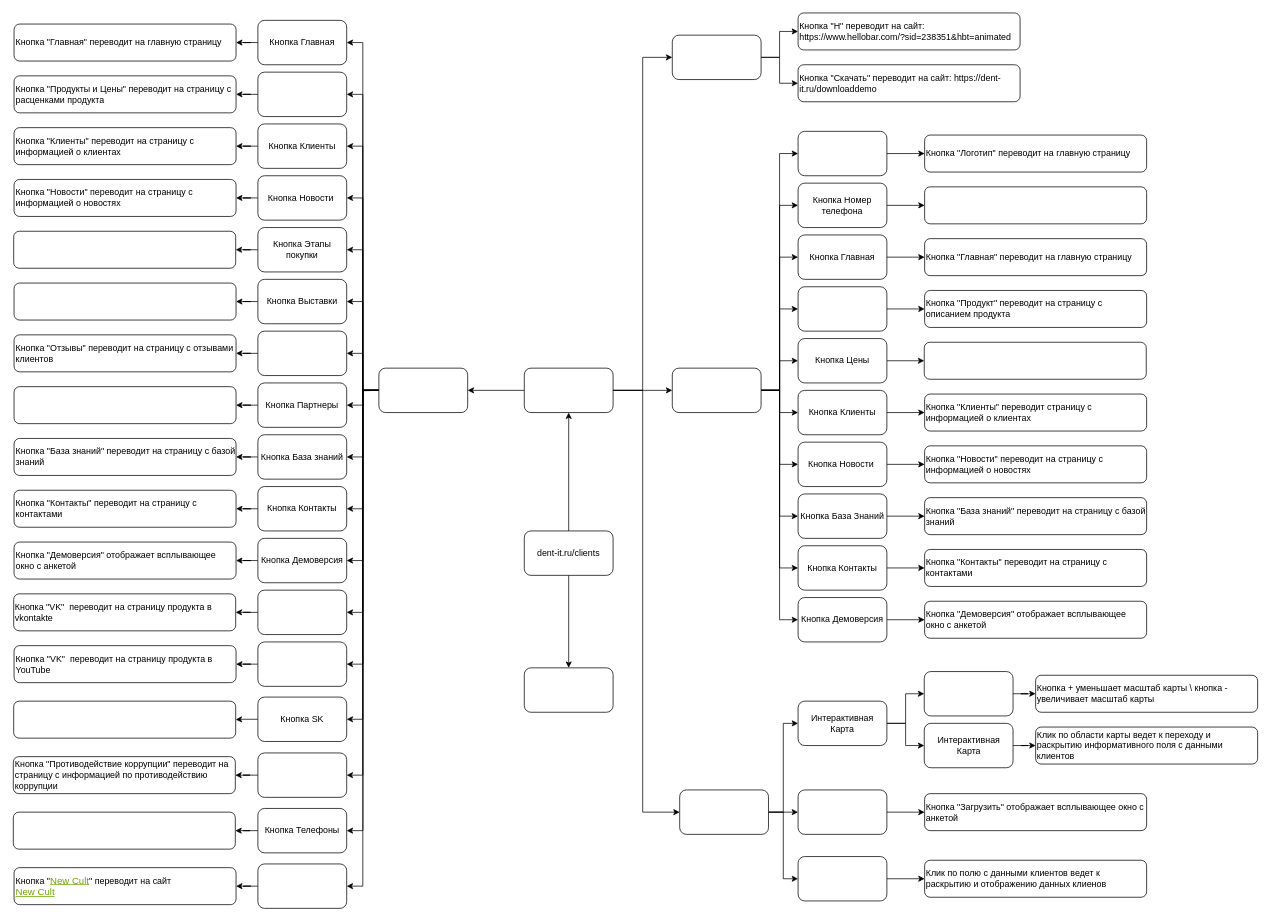
Some shapes in this 1271 by 921 pixel diagram are drawn without their labels. The centre of each missing label's shape, as x and y in pixels:
Footer: (x=423, y=390)
Header: (x=716, y=390)
Баннерная реклама: (x=716, y=57)
Блок Информации о клиентах: (x=723, y=811)
Интерфейс: (x=568, y=689)
Информативные поля с данными клиентов: (x=842, y=878)
Кнопка "SK" переводит на страницу https://sk.ru/: (x=124, y=719)
Кнопка "Выставки" переводит на страницу с календарем выставок: (x=124, y=301)
Кнопка "Номер телефона" обращается к Приложениям на компьютере: (x=1035, y=205)
Кнопка "Номера телефонов" обращается к Приложениям на компьютере: (x=124, y=830)
Кнопка "Партнеры" переводит на страницу с информацией о партнерах: (x=124, y=405)
Кнопка "Цены" переводит на страницу с расценками продукта: (x=1035, y=360)
Кнопка "Этапы покупки" переводит на страницу с информацией о способах оплаты: (x=124, y=249)
Кнопка New Cult: (x=302, y=885)
Кнопка VK: (x=302, y=612)
Кнопка YouTube: (x=302, y=663)
Кнопка Загрузить Демо: (x=842, y=811)
Кнопка Логотип: (x=842, y=153)
Кнопка Отзывы: (x=302, y=353)
Кнопка Продукт: (x=842, y=308)
Кнопка Продукты и цены: (x=302, y=94)
Кнопка Противодействие коррупции: (x=302, y=774)
Кнопки + \ -: (x=968, y=693)
Функционал: (x=568, y=390)
